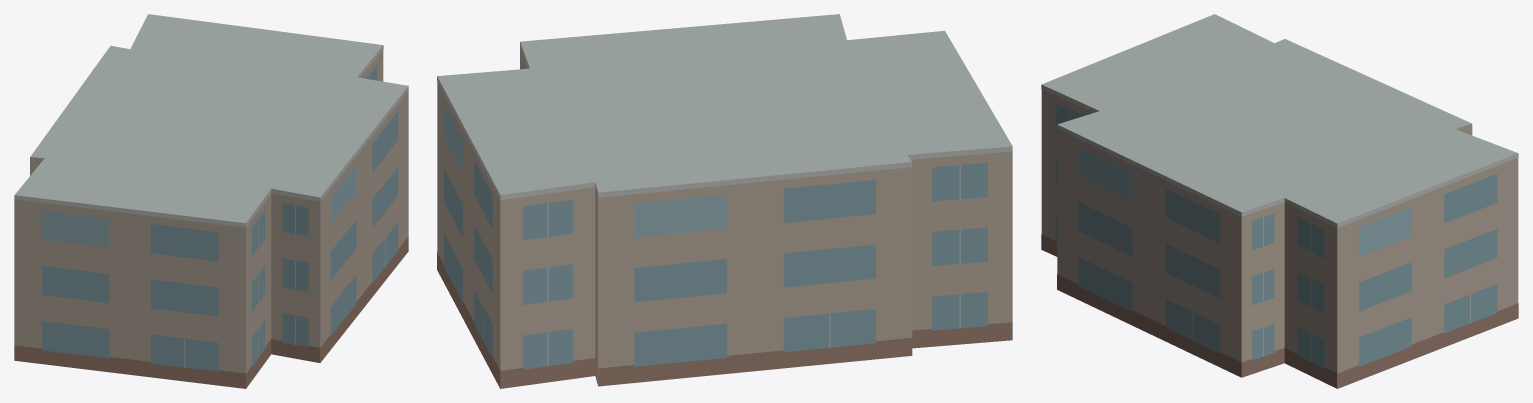
File: survey-upis-32855501.glb
3 renders of one model, left to right at view 1: azimuth 30°, elevation 25°; view 2: azimuth 150°, elevation 25°; view 3: azimuth 270°, elevation 25°, orthographic. The views are drawn at different scales.
Parts seen in each view (by area): view 1: survey-upis-32855501.tmp; view 2: survey-upis-32855501.tmp; view 3: survey-upis-32855501.tmp.
Boxes of the visible parts, bbox=[...] form: survey-upis-32855501.tmp: bbox=[14, 14, 408, 388]; survey-upis-32855501.tmp: bbox=[437, 14, 1012, 388]; survey-upis-32855501.tmp: bbox=[1041, 14, 1518, 388].
Bounding box in the file's own units: 24.9 × 9.15 × 23.93.
